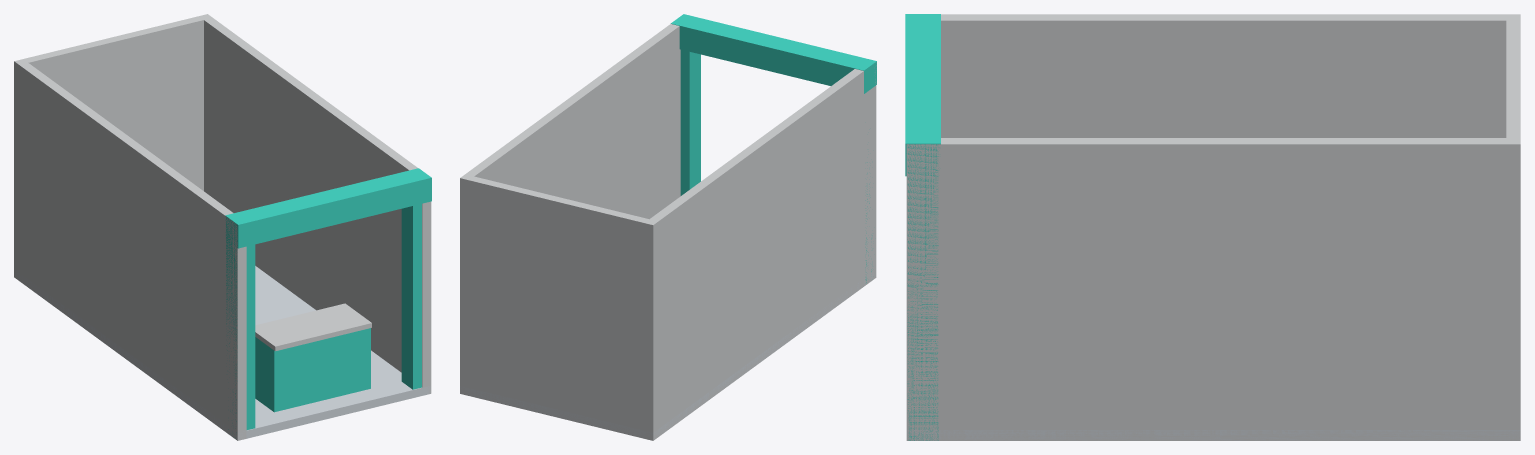
The picture shows the model from 3 angles, left to right: view 1: azimuth 30°, elevation 25°; view 2: azimuth 150°, elevation 25°; view 3: azimuth 270°, elevation 25°; orthographic projection. The views are drawn at different scales.
Parts seen in each view (by area): view 1: Exhibition Booth Concept; view 2: Exhibition Booth Concept; view 3: Exhibition Booth Concept.
Boxes of the visible parts, left/top/right/bottom form: Exhibition Booth Concept: left=14, top=14, right=431, bottom=440; Exhibition Booth Concept: left=460, top=14, right=876, bottom=440; Exhibition Booth Concept: left=905, top=14, right=1520, bottom=440.
Bounding box in the file's own units: 3 × 3.2 × 6.02.
